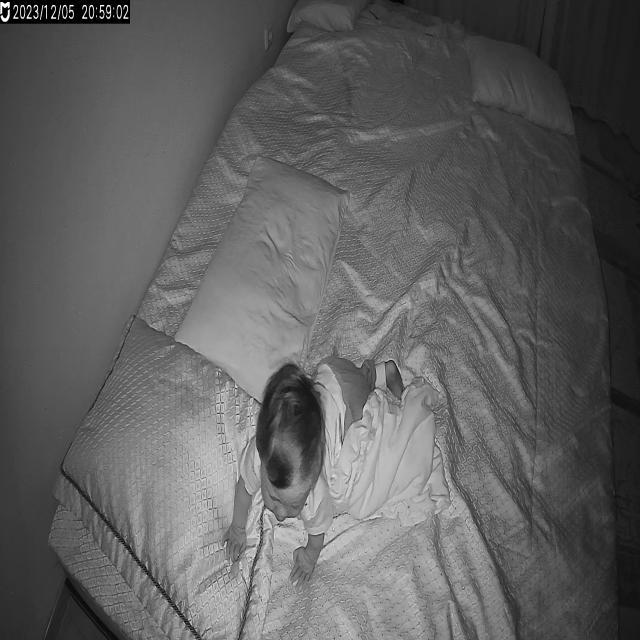baby: (224, 350, 413, 596)
